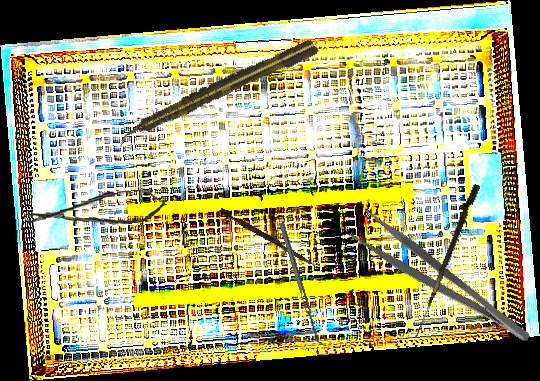Dressing Forceps: (347, 206, 534, 360)
Handpiece: (112, 35, 322, 148)
Hook Surgical: (414, 182, 481, 342)
Micro Scissor: (24, 188, 168, 231)
Pusher: (218, 207, 318, 268)
Spatula Surgical: (279, 220, 327, 349)
